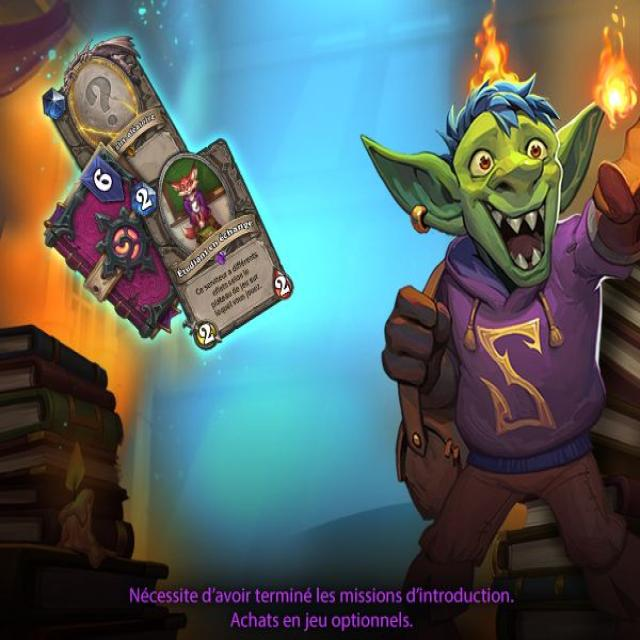Animation Frames: (0, 322, 183, 636), (42, 140, 181, 340)
Background Image: (1, 1, 637, 636)
Decorative Elements: (39, 33, 294, 351)
Mascot: (359, 68, 639, 637)
Testimonial Quotes: (127, 584, 514, 632)
Text Elements: (127, 584, 514, 606), (228, 609, 413, 631), (404, 585, 513, 605), (111, 108, 158, 154)
